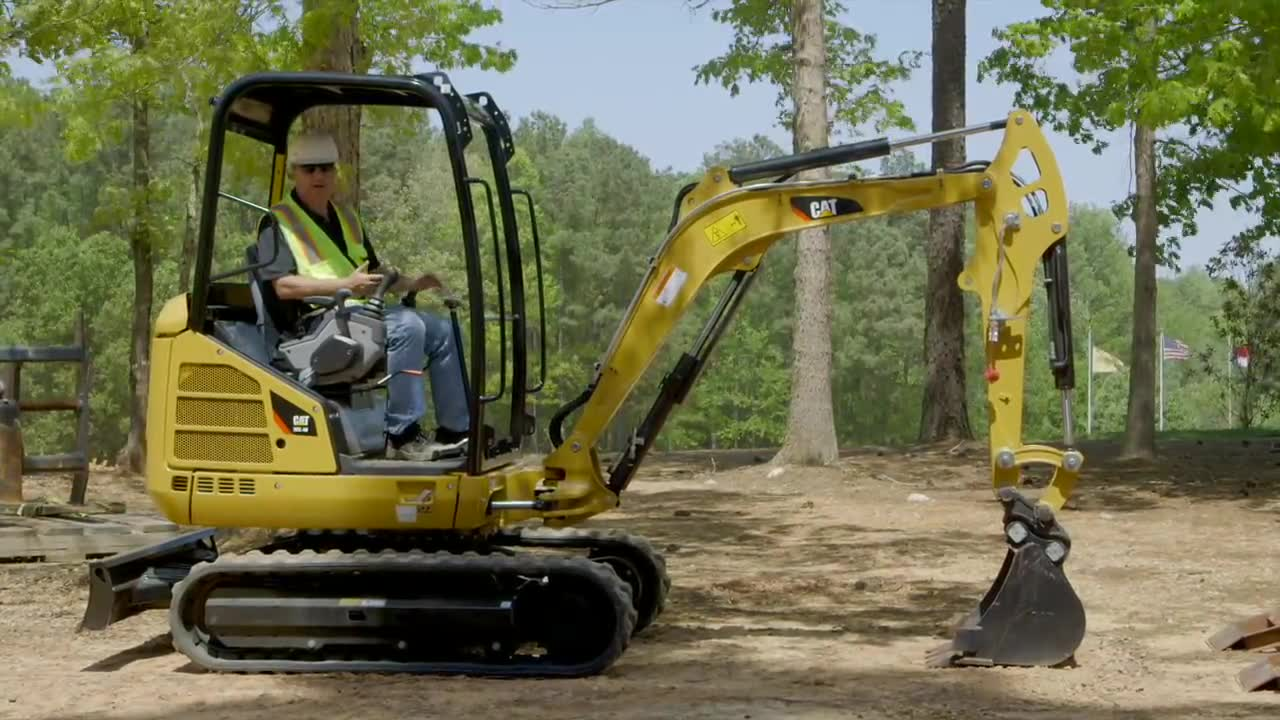attachment-bucket: (918, 498, 1090, 686)
cabin: (142, 69, 543, 524)
forearm: (961, 107, 1067, 512)
upperarm: (568, 170, 1016, 485)
wheelbase: (158, 521, 691, 682)
